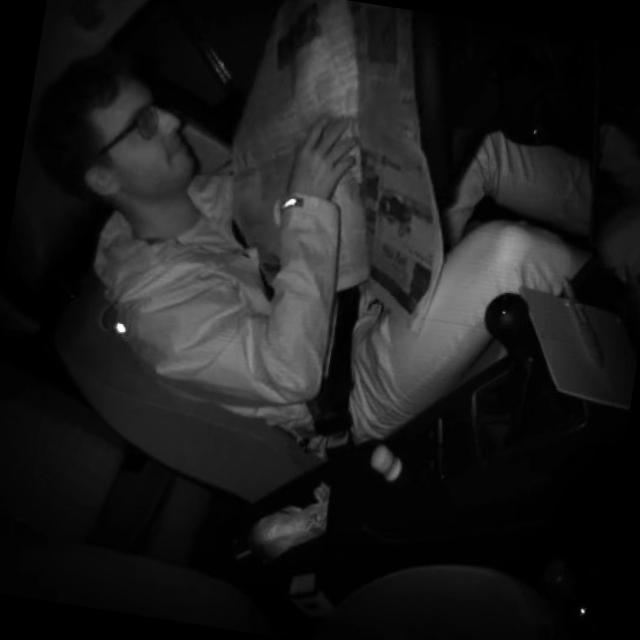pen: (547, 270, 614, 366)
